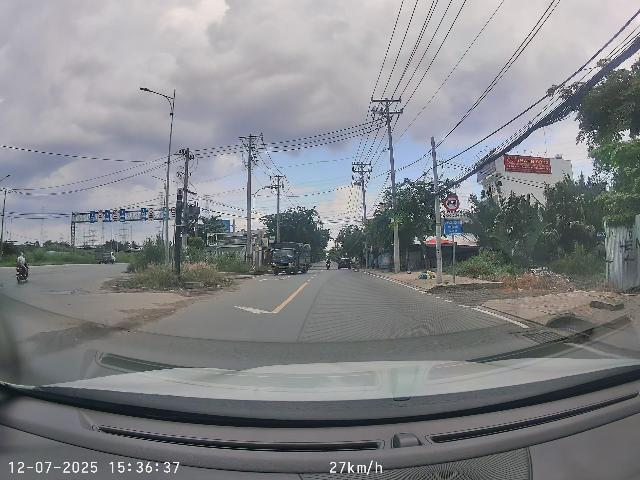106-cam-oto-tai: (444, 195, 460, 212)
